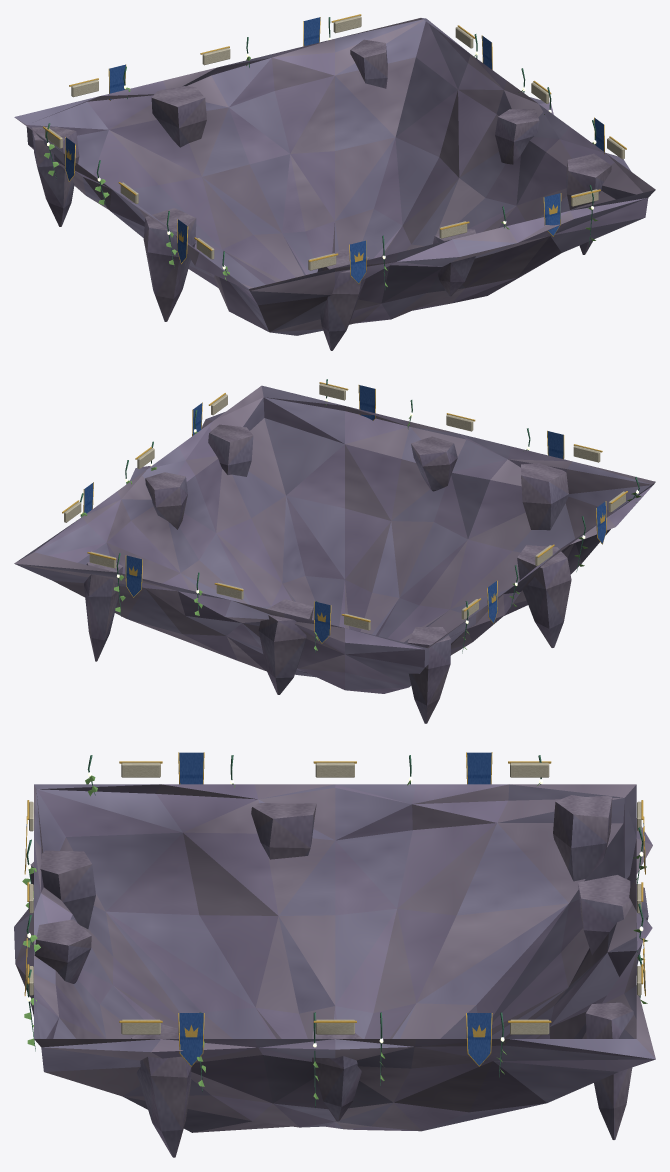
File: crown-foundation-low.glb
3 views of the same model, one above another, from view 1: azimuth 30°, elevation 25°; view 2: azimuth 150°, elevation 25°; view 3: azimuth 270°, elevation 25° (orthographic). The views are drawn at different scales.
Parts seen in each view (by area): view 1: crown-foundation; view 2: crown-foundation; view 3: crown-foundation.
Part boxes in pixels (x1,y1,x2,y2): crown-foundation: (14, 14, 655, 350); crown-foundation: (14, 379, 655, 723); crown-foundation: (14, 752, 655, 1157).
Size of the model in its own units: 26.37 by 10.87 by 26.76.
7 materials, 7 textured.
